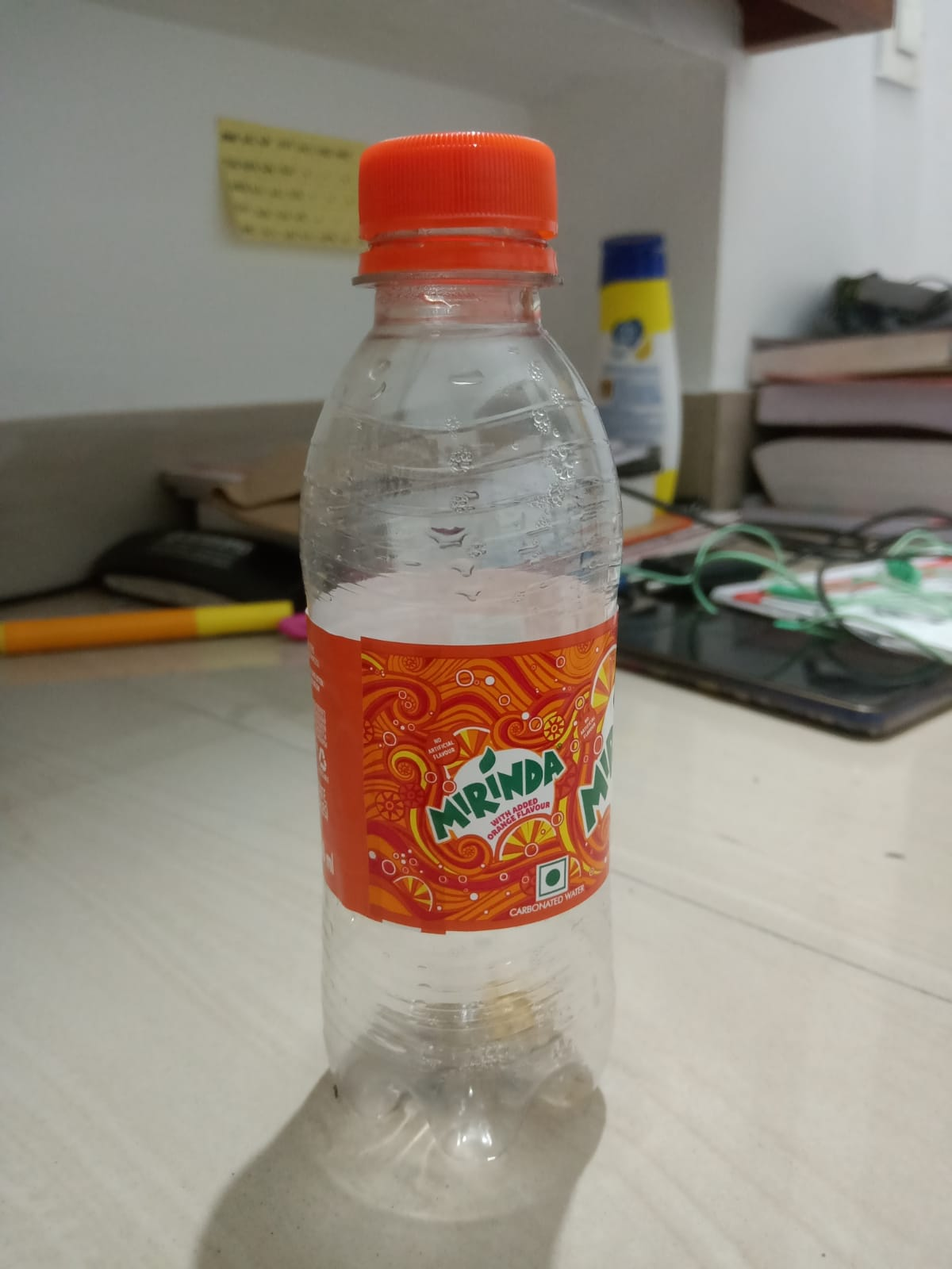plastic: (249, 122, 625, 1164)
